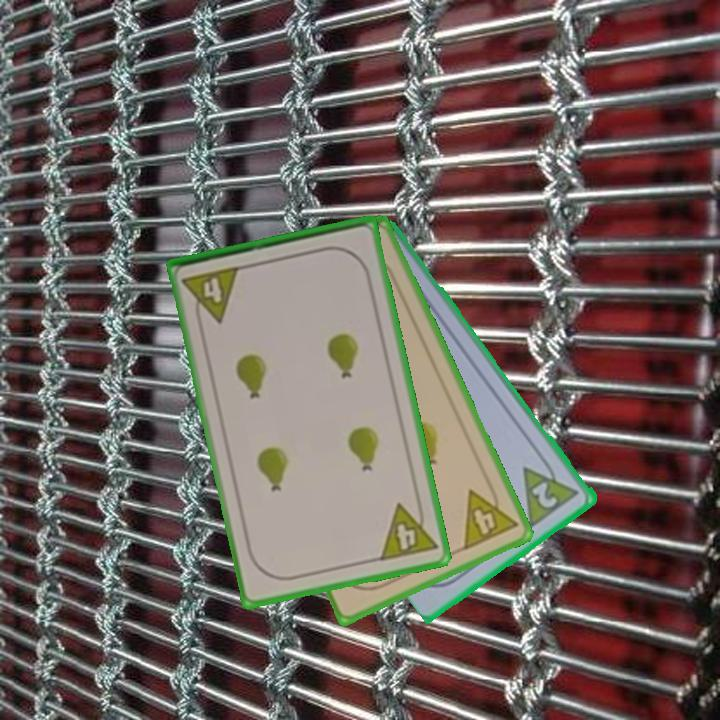2p: (529, 478, 562, 512)
4p: (459, 478, 521, 554), (376, 496, 440, 564), (179, 263, 243, 329)
